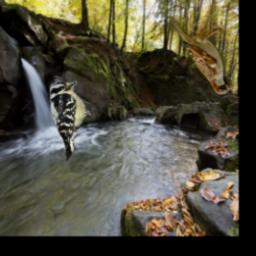Sparrow: (170, 16, 232, 94)
Woodpecker: (48, 79, 96, 162)
